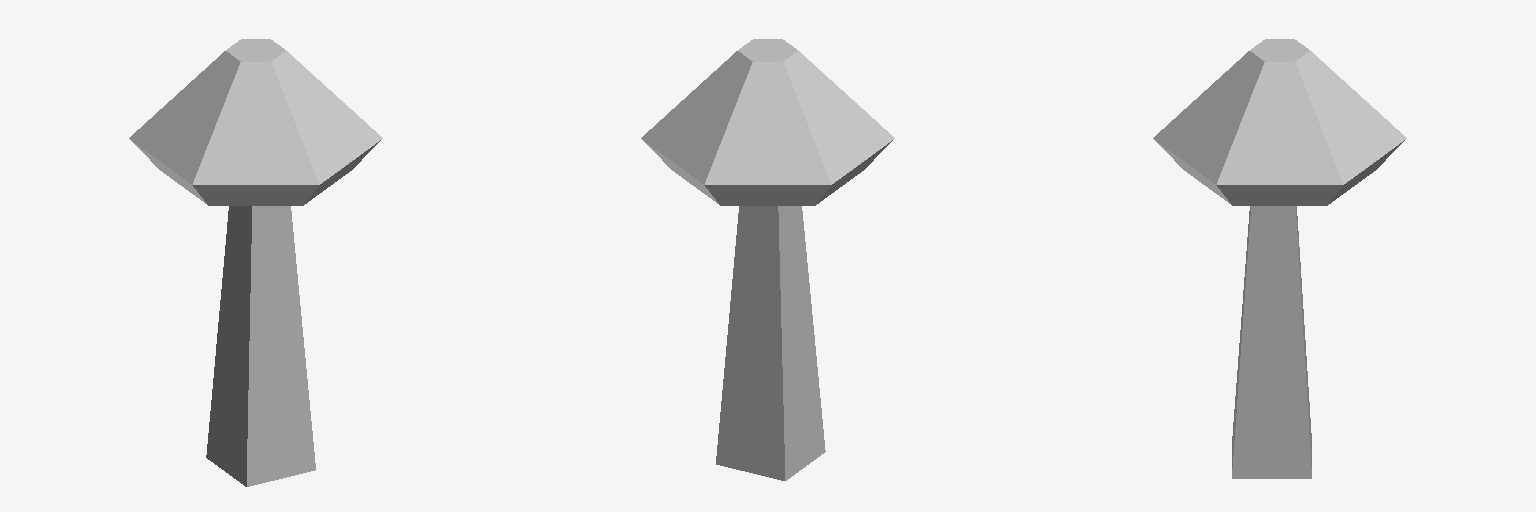
File: mushroom_brownTall.obj
3 views of the same model, side by side, from view 1: azimuth 30°, elevation 25°; view 2: azimuth 150°, elevation 25°; view 3: azimuth 270°, elevation 25° (orthographic).
Visible parts, largest first — view 1: mushroom_brownTall; view 2: mushroom_brownTall; view 3: mushroom_brownTall.
Boxes of the visible parts, x1,y1,x2,y2 form: mushroom_brownTall: [129, 39, 382, 486]; mushroom_brownTall: [641, 39, 894, 480]; mushroom_brownTall: [1153, 39, 1406, 478].
Bounding box in the file's own units: 0.9881 × 2.03 × 1.14.